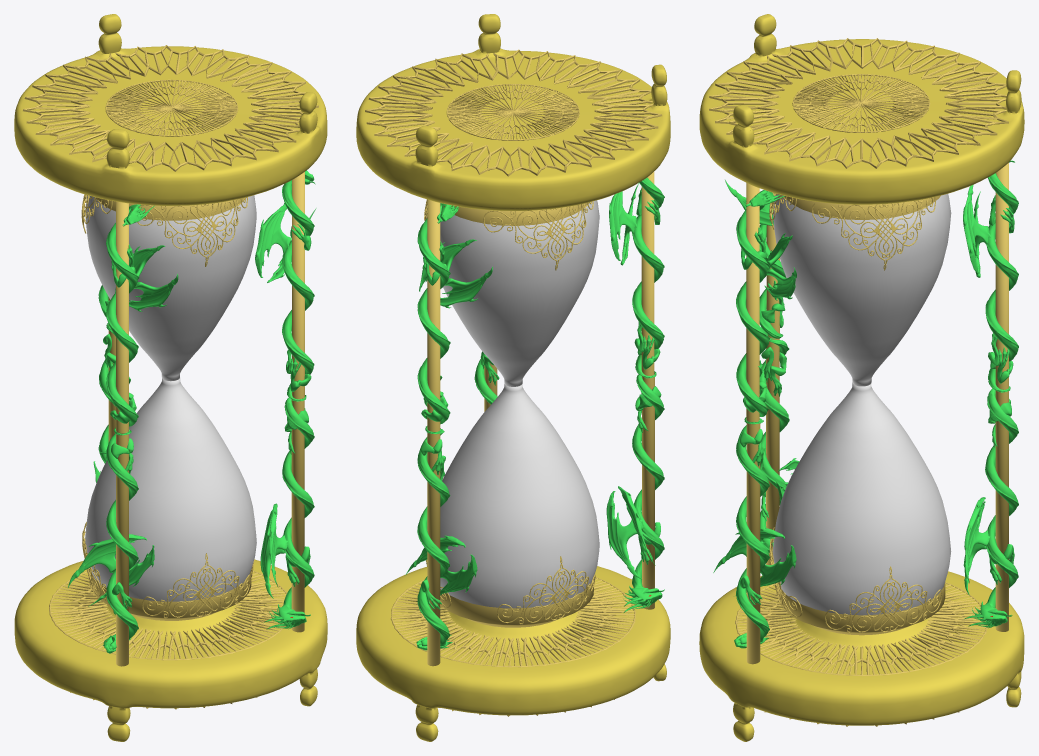
The model's file is clock.fbx.
3 renders of one model, left to right at view 1: azimuth 30°, elevation 25°; view 2: azimuth 150°, elevation 25°; view 3: azimuth 270°, elevation 25°, orthographic. The views are drawn at different scales.
Parts seen in each view (by area): view 1: Hourglass, Hourglass.001, Hourglass.014, Hourglass.013, Hourglass.003, Hourglass.002, Hourglass.011, Hourglass.010, Hourglass.007, Hourglass.015, Hourglass.004; view 2: Hourglass, Hourglass.001, Hourglass.014, Hourglass.013, Hourglass.002, Hourglass.012, Hourglass.004, Hourglass.011, Hourglass.017, Hourglass.008, Hourglass.003; view 3: Hourglass, Hourglass.001, Hourglass.014, Hourglass.013, Hourglass.004, Hourglass.003, Hourglass.012, Hourglass.010, Hourglass.002, Hourglass.016, Hourglass.009, Hourglass.011.
Part boxes in pixels (x1,y1,x2,y2): Hourglass: (14, 330, 327, 741); Hourglass.001: (14, 14, 327, 432); Hourglass.014: (23, 45, 318, 171); Hourglass.013: (105, 79, 238, 136); Hourglass.003: (260, 395, 314, 629); Hourglass.002: (68, 429, 154, 653); Hourglass.011: (106, 204, 178, 435); Hourglass.010: (255, 170, 316, 401); Hourglass.007: (142, 553, 251, 618); Hourglass.015: (137, 197, 247, 266); Hourglass.004: (93, 323, 115, 482); Hourglass: (356, 363, 670, 741); Hourglass.001: (356, 14, 670, 431); Hourglass.014: (365, 49, 662, 176); Hourglass.013: (446, 84, 579, 140); Hourglass.002: (606, 371, 664, 612); Hourglass.012: (417, 203, 492, 433); Hourglass.004: (405, 429, 477, 650); Hourglass.011: (609, 177, 664, 378); Hourglass.017: (483, 201, 593, 270); Hourglass.008: (497, 556, 595, 624); Hourglass.003: (474, 351, 499, 404); Hourglass: (699, 338, 1024, 741); Hourglass.001: (699, 14, 1024, 421); Hourglass.014: (709, 38, 1008, 168); Hourglass.013: (792, 74, 930, 132); Hourglass.004: (963, 387, 1018, 628); Hourglass.003: (713, 418, 796, 648); Hourglass.012: (963, 160, 1018, 392); Hourglass.010: (736, 190, 796, 424); Hourglass.002: (759, 338, 799, 553); Hourglass.016: (812, 197, 935, 270); Hourglass.009: (825, 566, 942, 632); Hourglass.011: (725, 180, 786, 339).
Size of the model in its own units: 104 by 224 by 104.
